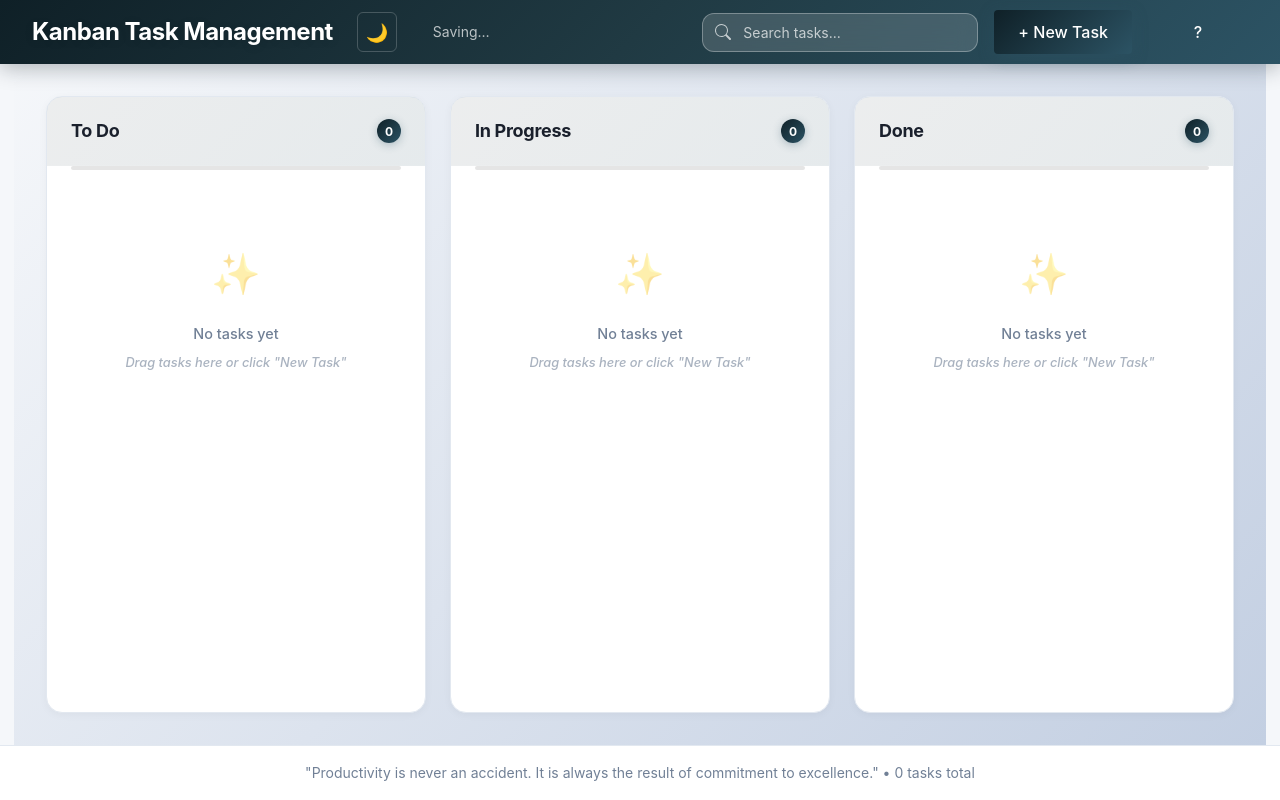
Scenario: App Integration Tests › Task Creation Flow › creates a task and displays it in To Do column
Note: Open create task form
Click the button with aria-label "Create new task".
click(1063, 32)  # box x1=994 y1=10 x2=1132 y2=54
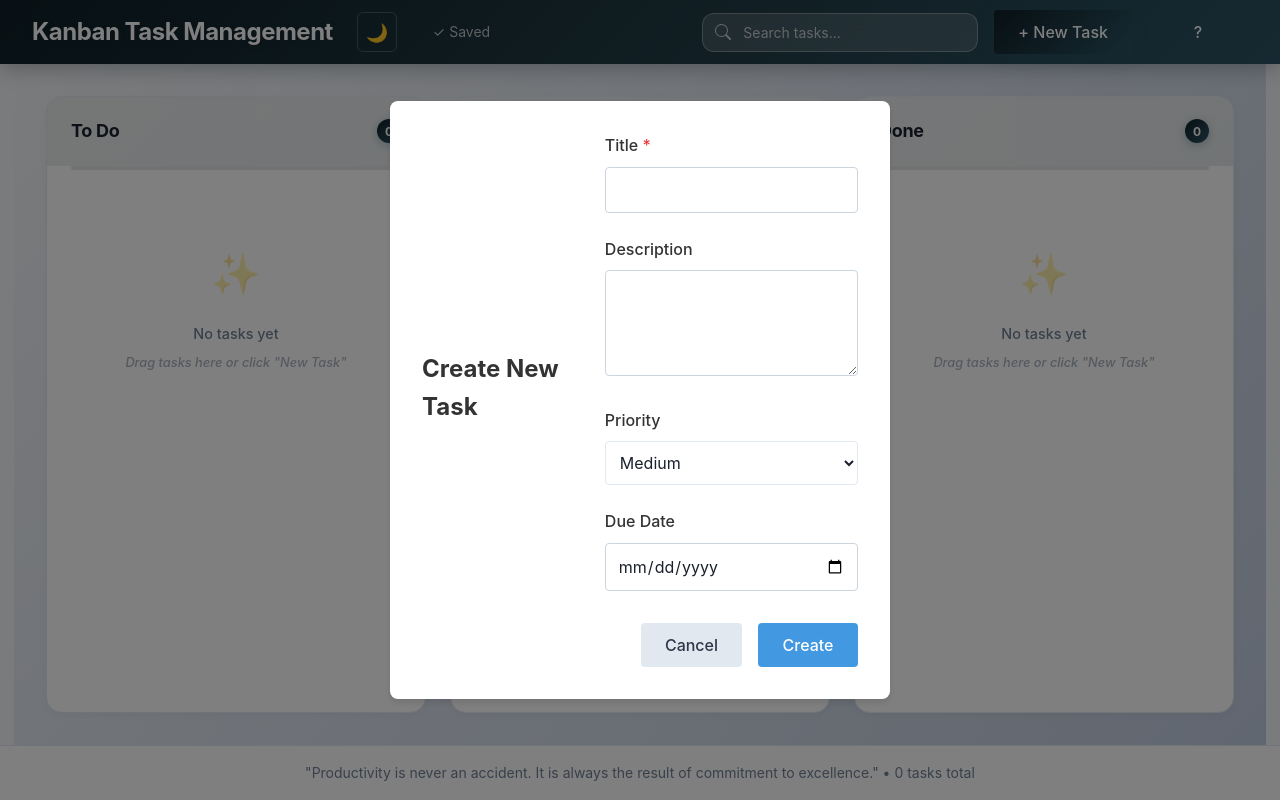
Now the field named "Task title" is shown
Type "New Test Task" into the field named "Task title".
click(731, 190); type("New Test Task")  # box x1=605 y1=167 x2=858 y2=213
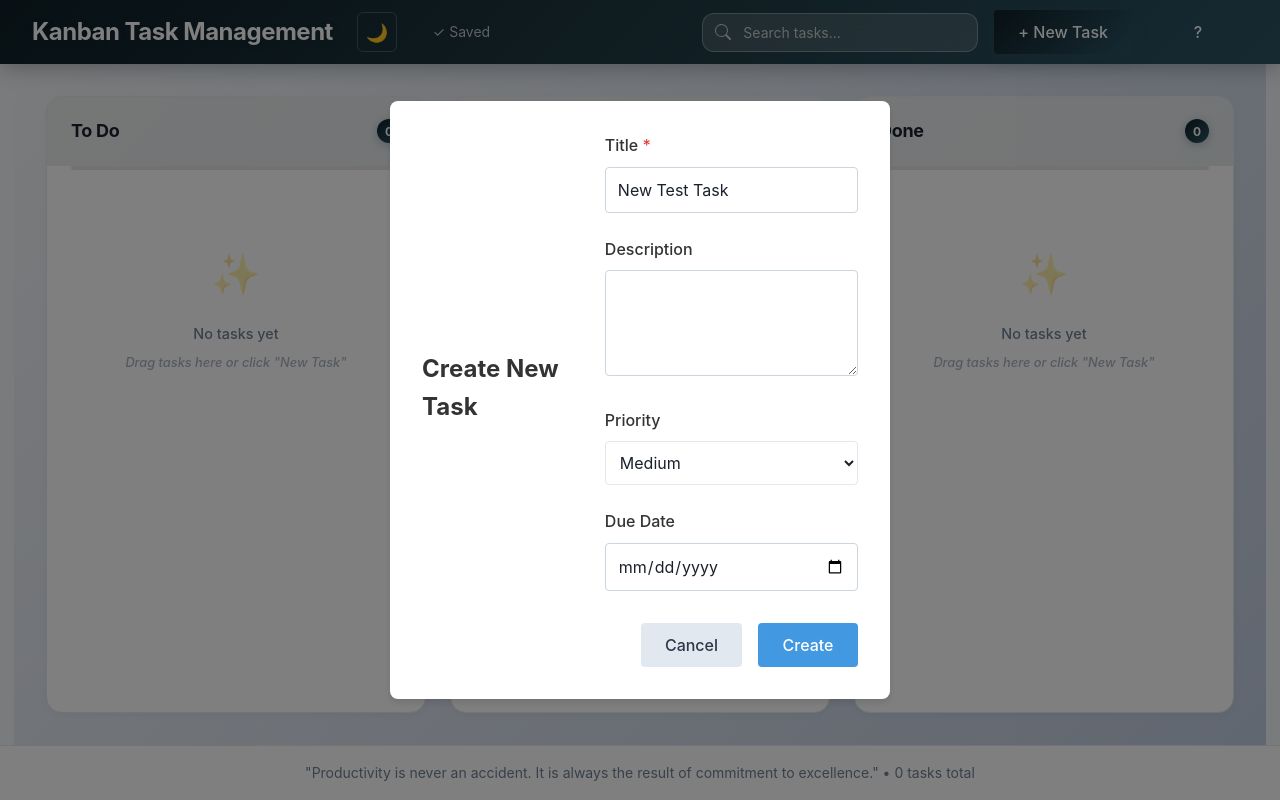
Type "Test description" into the text box named "Task description".
click(731, 323); type("Test description")  # box x1=605 y1=270 x2=858 y2=376
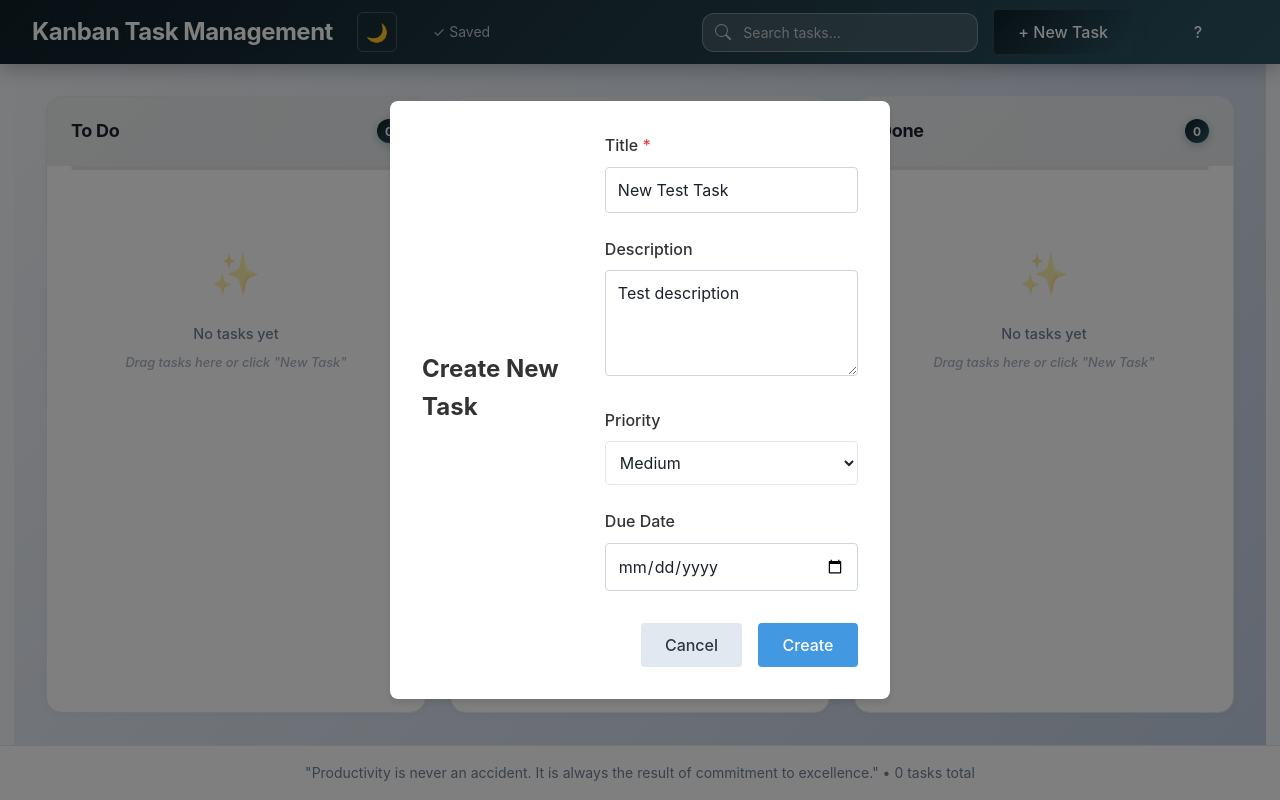
Note: Submit form
Click the button with aria-label "Create Task".
click(808, 645)  # box x1=758 y1=623 x2=858 y2=667
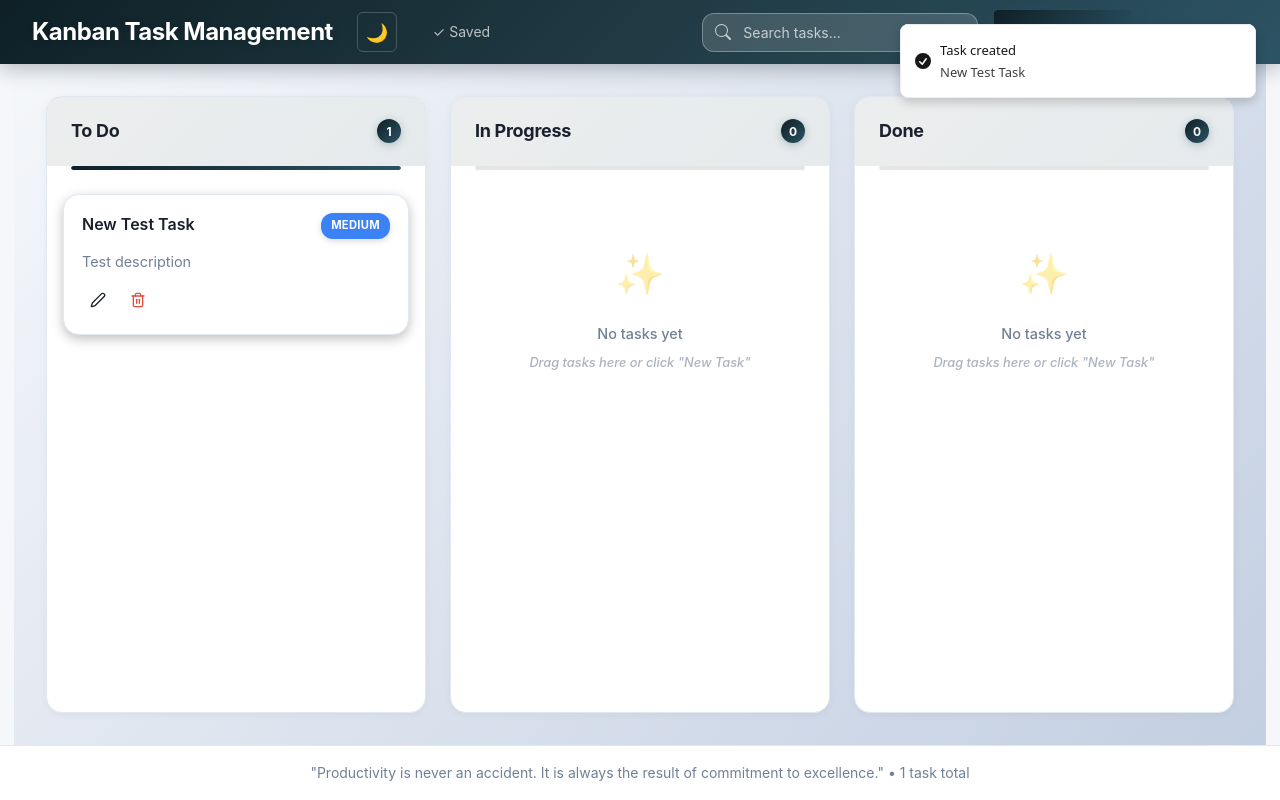
Now the element showing "New Test Task Medium Test description" is shown, box x1=63 y1=194 x2=409 y2=335
